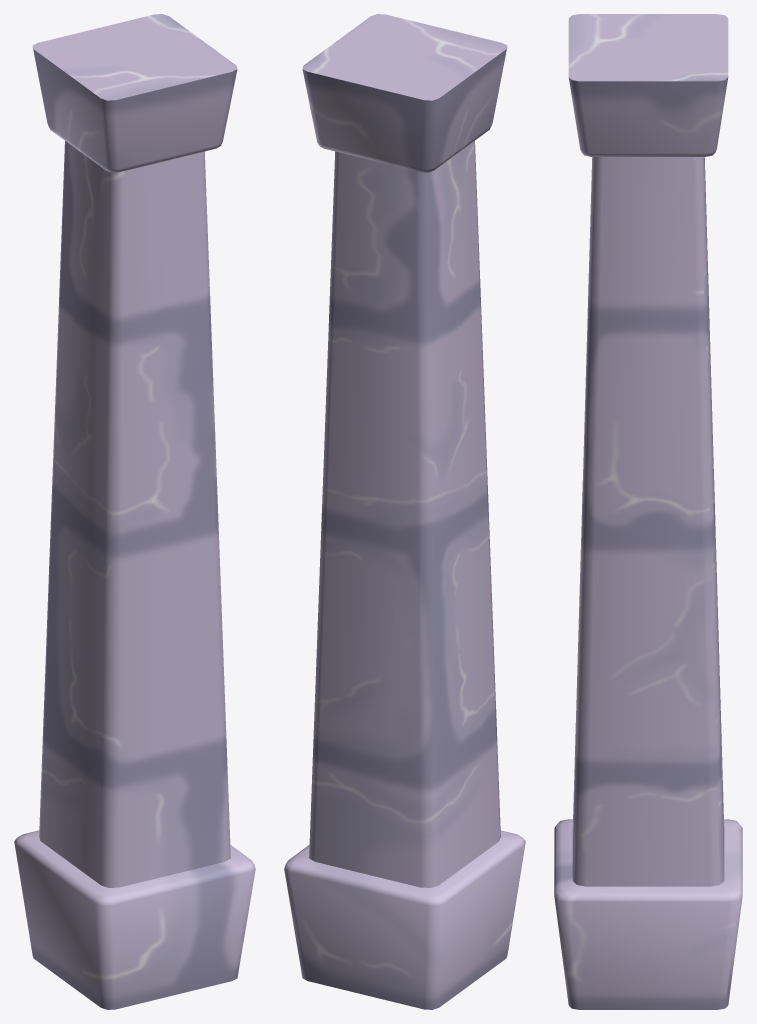
File: SM_Pillar_01.fbx
3 views of the same model, side by side, from view 1: azimuth 30°, elevation 25°; view 2: azimuth 150°, elevation 25°; view 3: azimuth 270°, elevation 25° (orthographic). The views are drawn at different scales.
Visible parts, largest first — view 1: SM_Pillar_01; view 2: SM_Pillar_01; view 3: SM_Pillar_01.
Boxes of the visible parts, x1,y1,x2,y2 form: SM_Pillar_01: (14, 14, 255, 1009); SM_Pillar_01: (284, 14, 525, 1009); SM_Pillar_01: (554, 14, 742, 1009).
Size of the model in its own units: 1.1 by 1.1 by 6.
